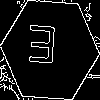E: (25, 25, 58, 73)
